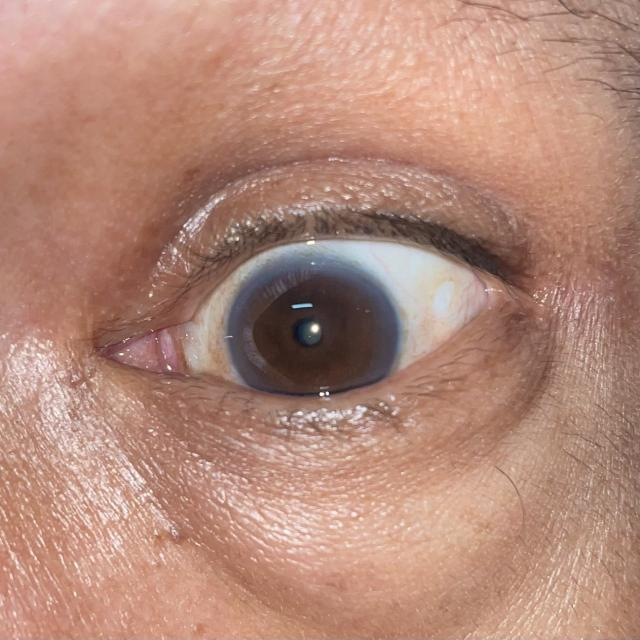Cataract: (223, 251, 401, 414)
